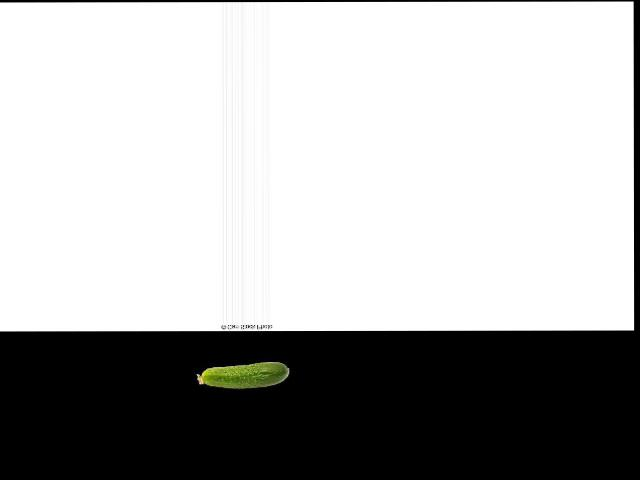cucumber: (197, 361, 289, 388)
